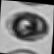correct: (0, 7, 54, 47)
